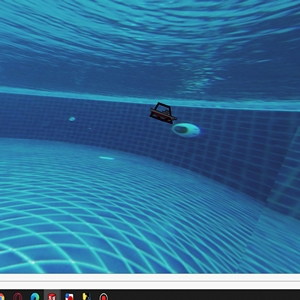submarine: (150, 101, 178, 125)
